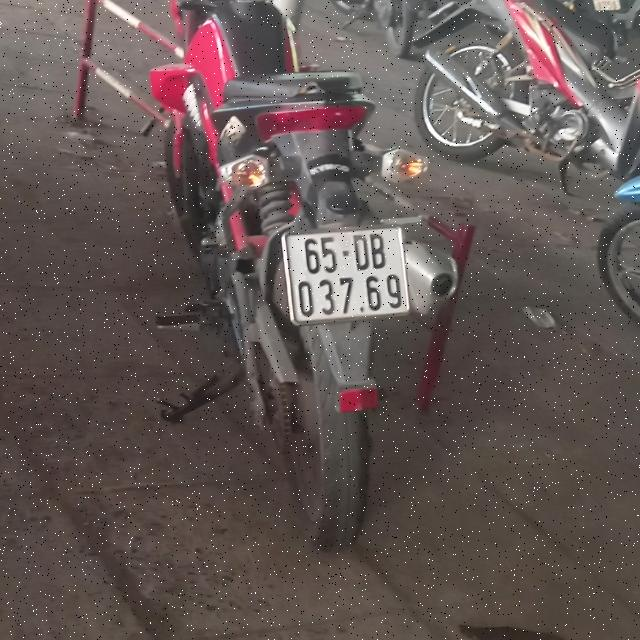0: (297, 282, 312, 316)
3: (319, 279, 334, 314)
5: (320, 236, 337, 272)
6: (365, 276, 383, 310), (304, 238, 320, 274)
7: (340, 277, 354, 314)
9: (386, 274, 401, 308)
B: (370, 233, 387, 268)
D: (352, 233, 369, 270)
